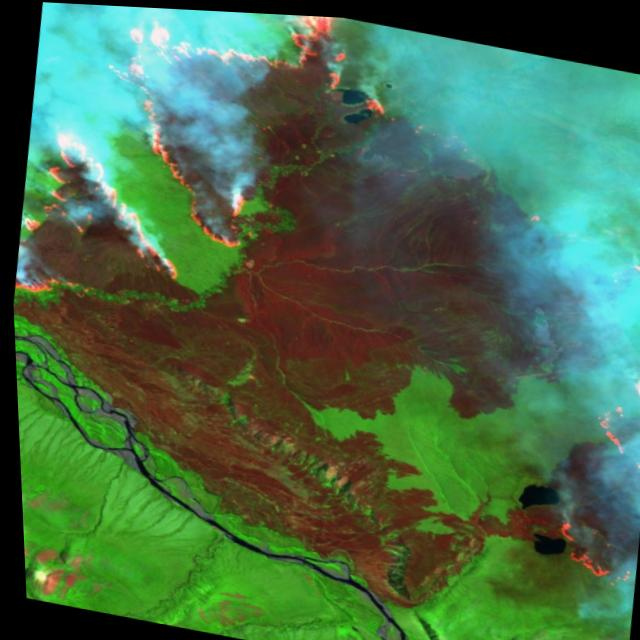fire: (0, 0, 414, 362), (532, 347, 640, 586)
